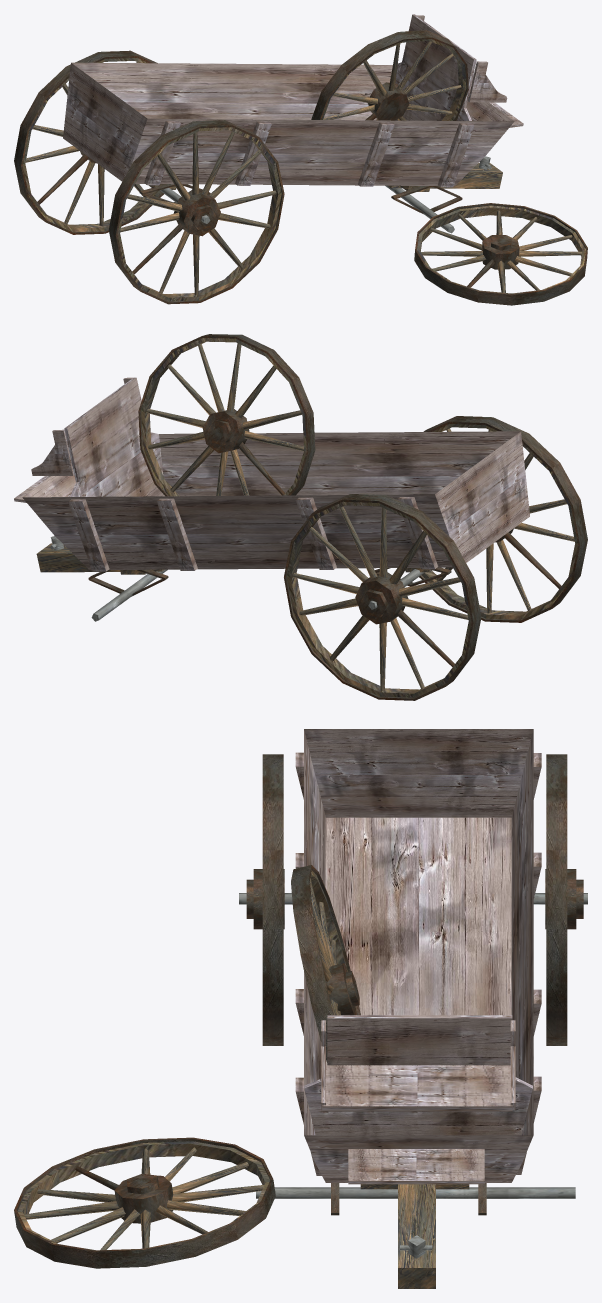
The picture shows the model from 3 angles, top to bottom: view 1: azimuth 30°, elevation 25°; view 2: azimuth 150°, elevation 25°; view 3: azimuth 270°, elevation 25°; orthographic projection. The views are drawn at different scales.
Visible parts, largest first — view 1: body; view 2: body; view 3: body.
Boxes of the visible parts, x1=… form: body: x1=14, y1=14, x2=587, y2=305; body: x1=14, y1=334, x2=587, y2=700; body: x1=14, y1=729, x2=587, y2=1288.
Size of the model in its own units: 4.59 by 2.12 by 3.49.
Materials: 4 (4 with a texture image).
